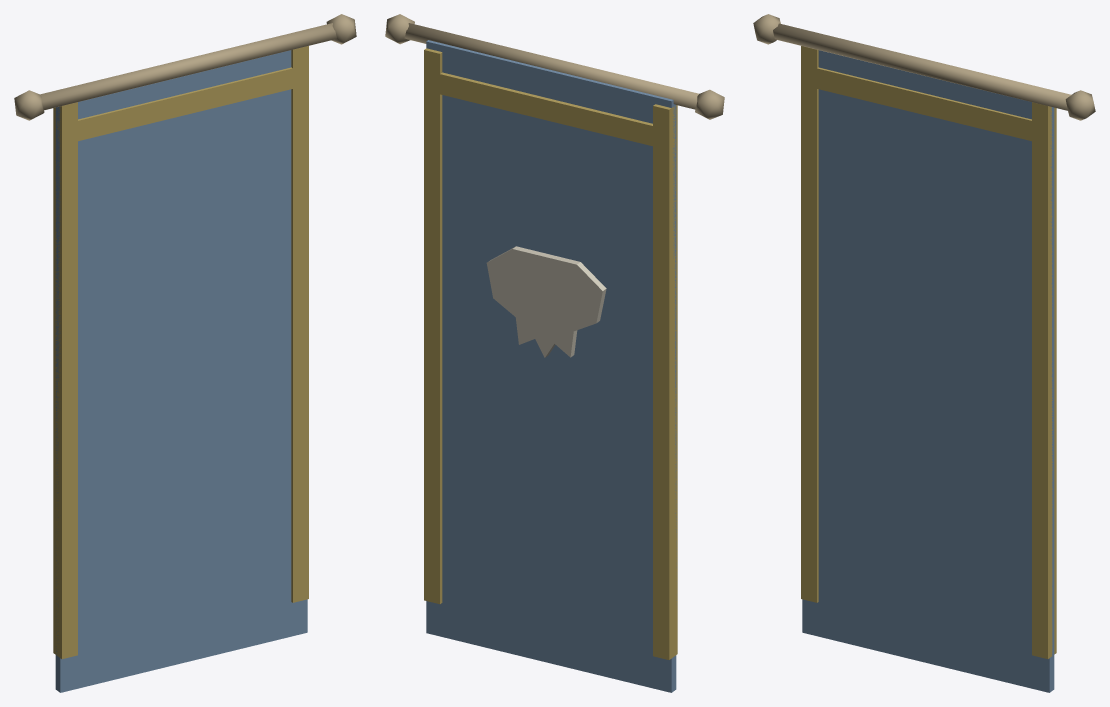
The model's file is frozen_zombie_banner_v0.glb.
3 renders of one model, left to right at view 1: azimuth 30°, elevation 25°; view 2: azimuth 150°, elevation 25°; view 3: azimuth 330°, elevation 25°, orthographic.
Visible parts, largest first — view 1: frozen_zombie_banner_v0; view 2: frozen_zombie_banner_v0; view 3: frozen_zombie_banner_v0.
Part boxes in pixels (x1,y1,x2,y2): frozen_zombie_banner_v0: [14, 14, 356, 692]; frozen_zombie_banner_v0: [385, 14, 724, 692]; frozen_zombie_banner_v0: [753, 14, 1095, 692].
Size of the model in its own units: 1.04 by 1.8 by 0.0933.
